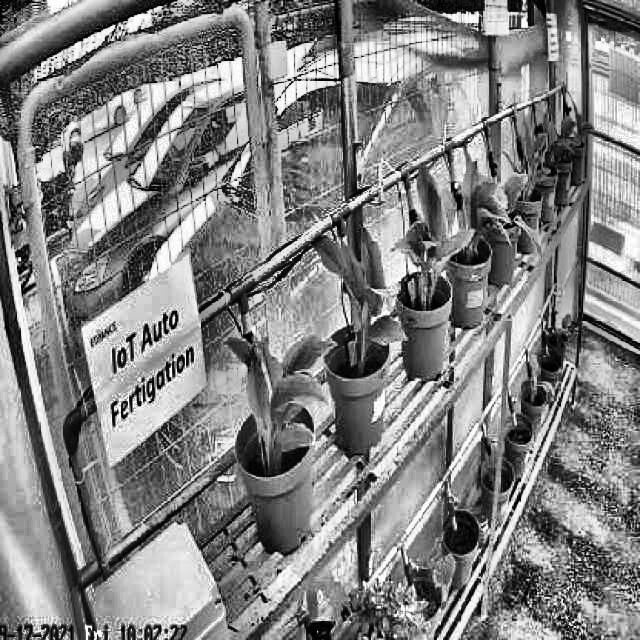plants: (306, 228, 408, 382), (228, 324, 330, 474), (388, 159, 474, 310), (448, 153, 514, 270)
